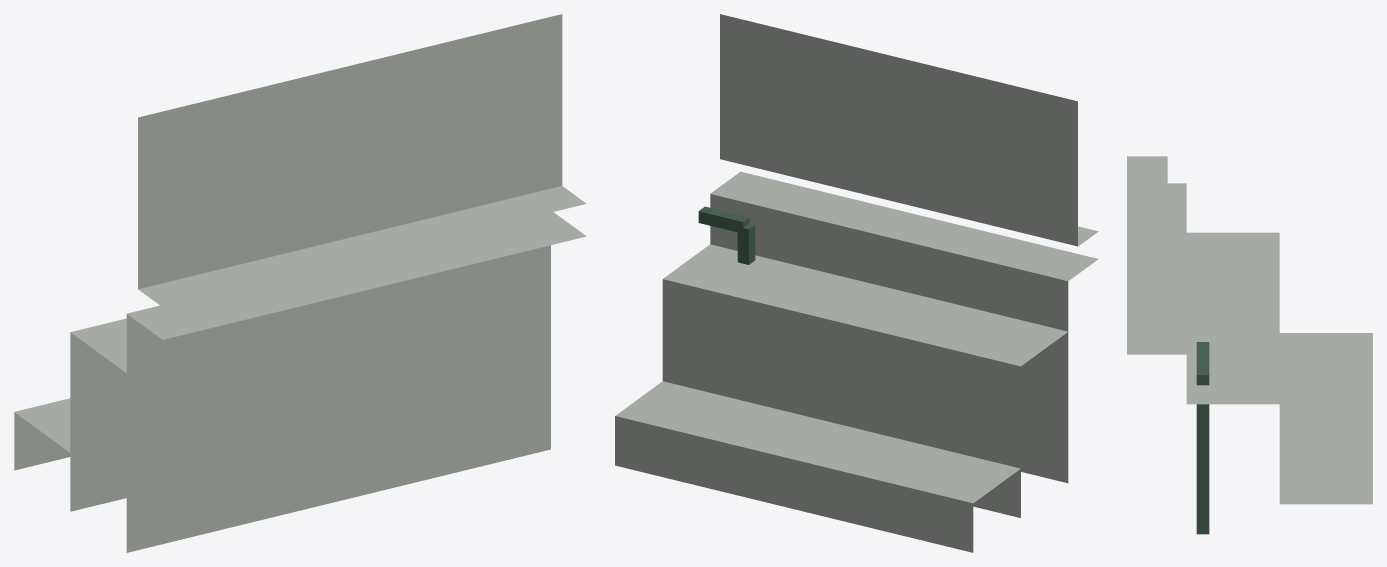
Rendered from cell_25.obj.
The picture shows the model from 3 angles, left to right: view 1: azimuth 30°, elevation 25°; view 2: azimuth 150°, elevation 25°; view 3: azimuth 270°, elevation 25°; orthographic projection. The views are drawn at different scales.
Size of the model in its own units: 1 by 1 by 0.6062.
